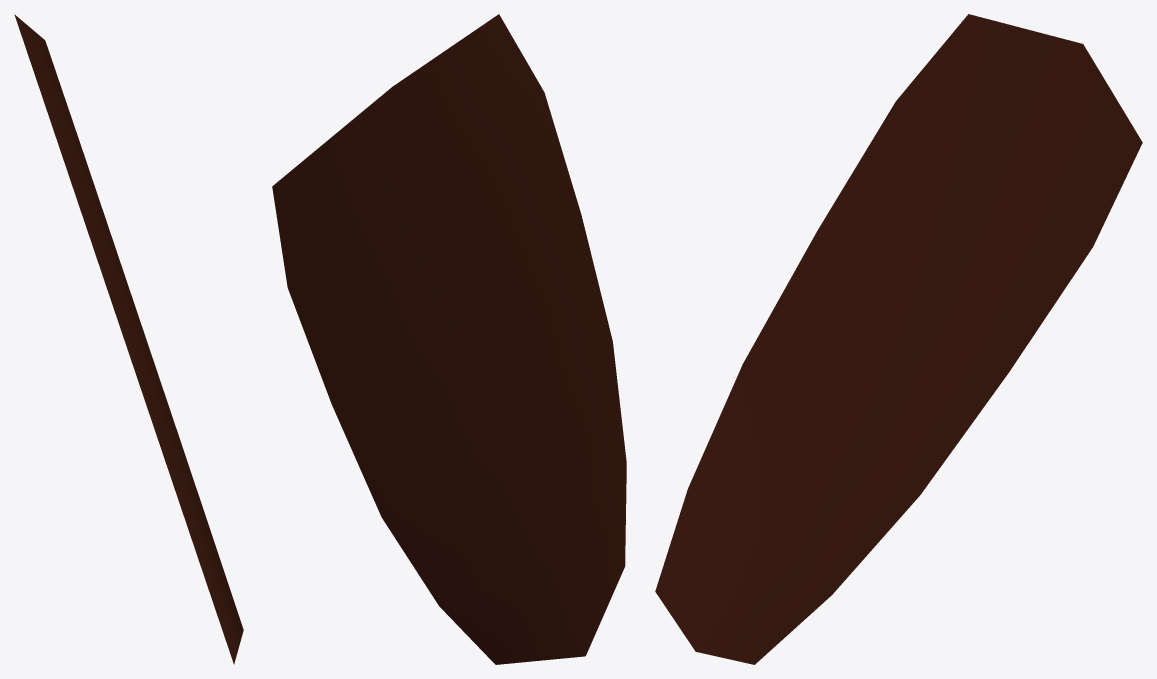
Rendered from hen_feather_tail_secondary_012.obj.
The picture shows the model from 3 angles, left to right: view 1: azimuth 30°, elevation 25°; view 2: azimuth 150°, elevation 25°; view 3: azimuth 270°, elevation 25°; orthographic projection. The views are drawn at different scales.
Visible parts, largest first — view 1: feather_tail_secondary_012; view 2: feather_tail_secondary_012; view 3: feather_tail_secondary_012.
Part boxes in pixels (left/top/right/bottom): feather_tail_secondary_012: left=14, top=14, right=243, bottom=664; feather_tail_secondary_012: left=272, top=14, right=626, bottom=664; feather_tail_secondary_012: left=655, top=14, right=1142, bottom=664.
Size of the model in its own units: 0.0144 by 0.0732 by 0.0536.
